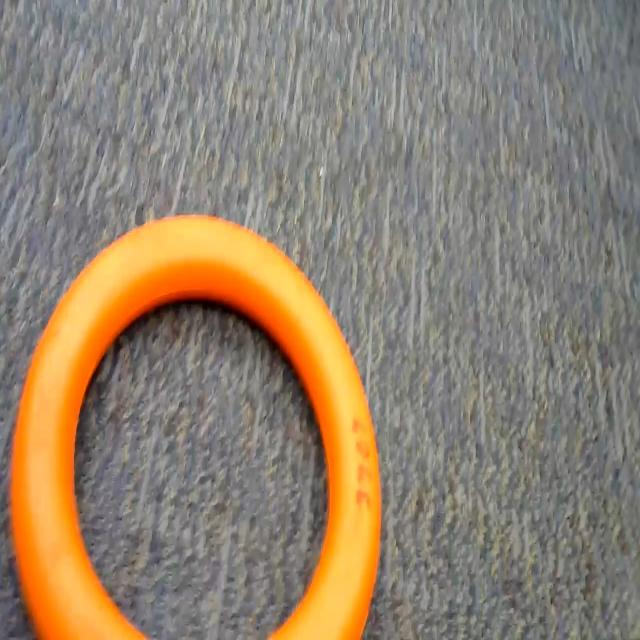note: (7, 208, 385, 640)
